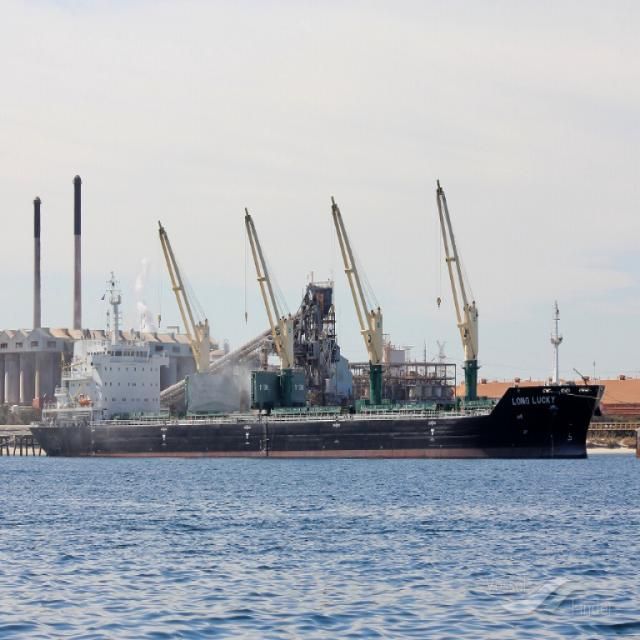OCR: (510, 389, 558, 409)
